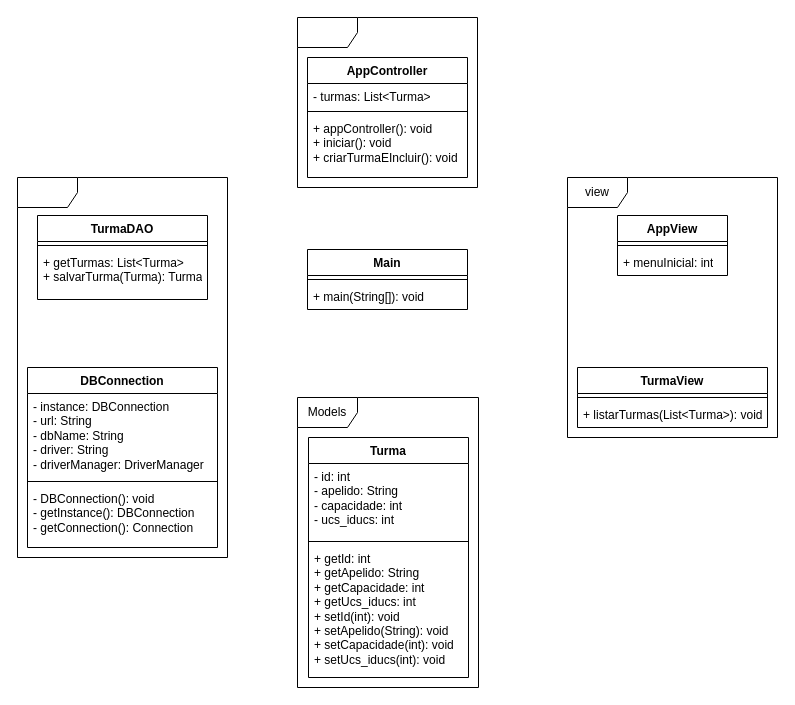
The diagram is 795 pixels wide and 705 high, and some of its shapes have lost their labels. Each missing label, with the centre of its shape:
controller: [387,102]
DAO: [122,367]
